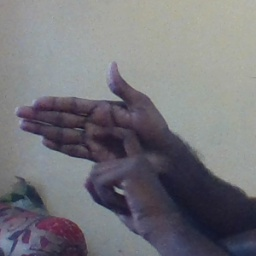R: (15, 63, 177, 185)
